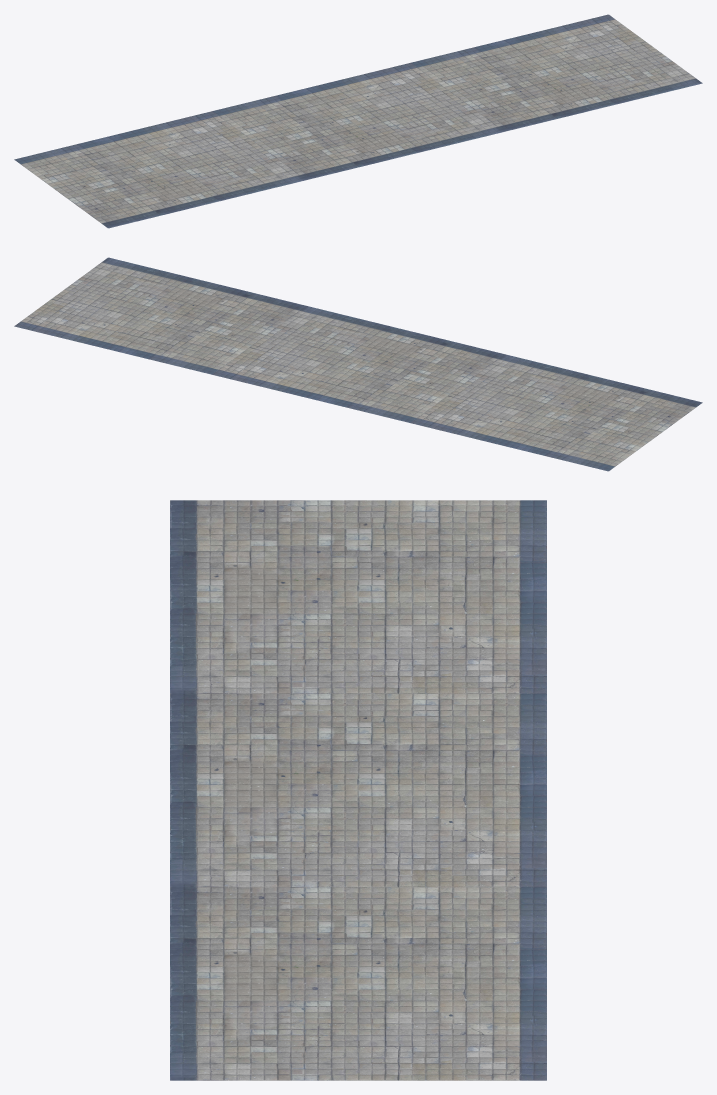
File: sidewalk.glb
3 renders of one model, top to bottom at view 1: azimuth 30°, elevation 25°; view 2: azimuth 150°, elevation 25°; view 3: azimuth 270°, elevation 25°, orthographic. The views are drawn at different scales.
Parts seen in each view (by area): view 1: Object_2, Object_3, Object_4; view 2: Object_2, Object_3, Object_4; view 3: Object_2, Object_3, Object_4.
Boxes of the visible parts, x1,y1,x2,y2 form: Object_2: (212,63,504,179); Object_3: (411,14,702,131); Object_4: (14,111,305,228); Object_2: (212,306,504,422); Object_3: (14,257,305,374); Object_4: (411,354,702,471); Object_2: (170,693,546,887); Object_3: (170,887,546,1080); Object_4: (170,500,546,693).
Bounding box in the file's own units: 794 × 0.2098 × 218.
Materials: 1 (1 with a texture image).
